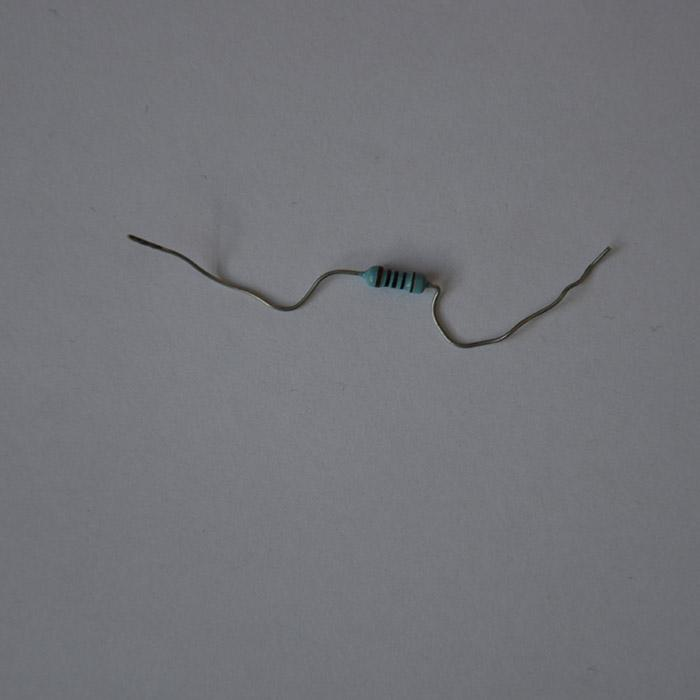resistor: (362, 264, 430, 294)
